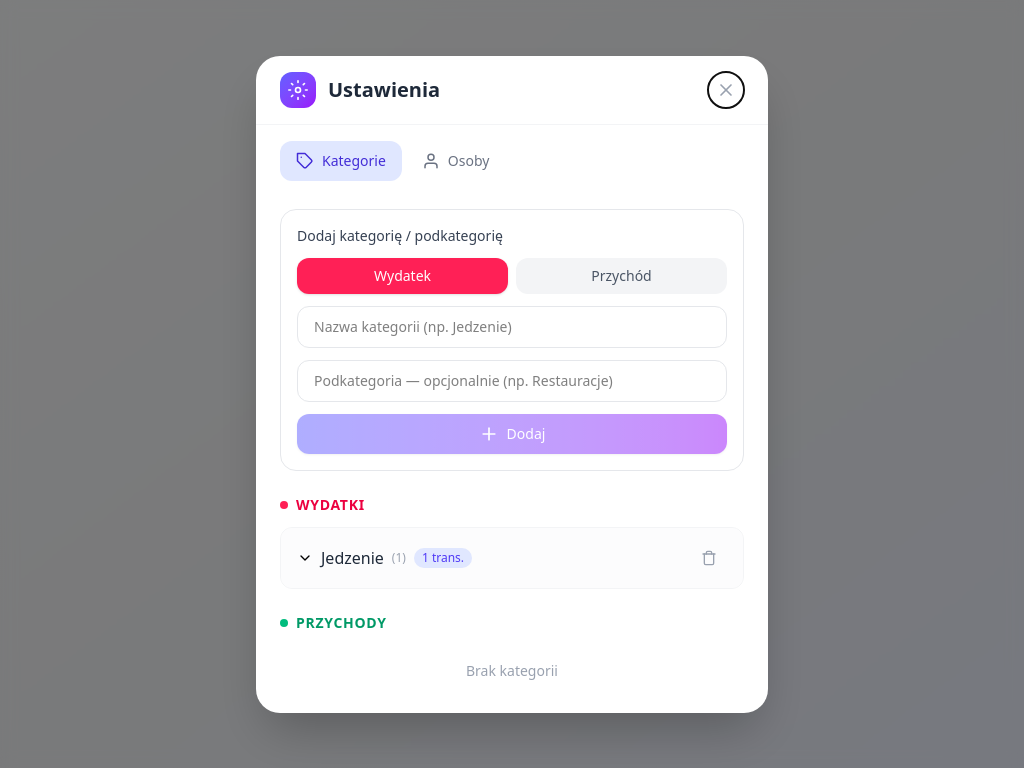
Scenario: SettingsPanel › dodaje kategorię i pokazuje komunikat
In the field with placeholder "Nazwa kategorii (np. Jedzenie)": (512, 326) [297, 306, 727, 348], type "Zdrowie"
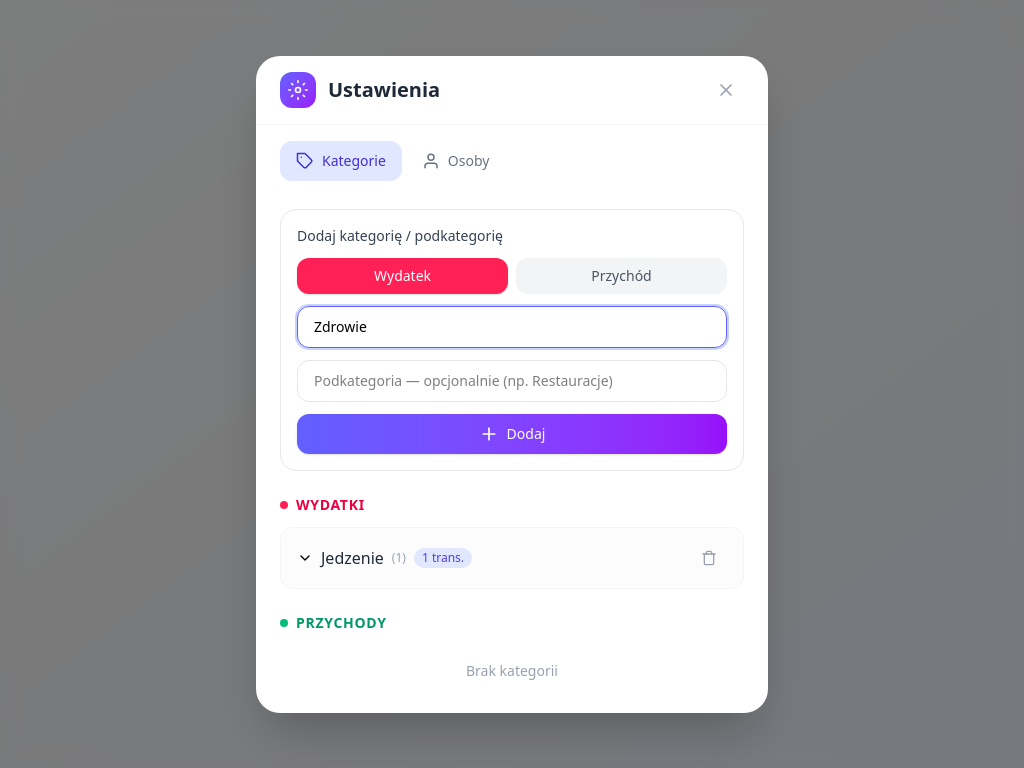
Click the button "Dodaj": (512, 434) [297, 414, 727, 454]
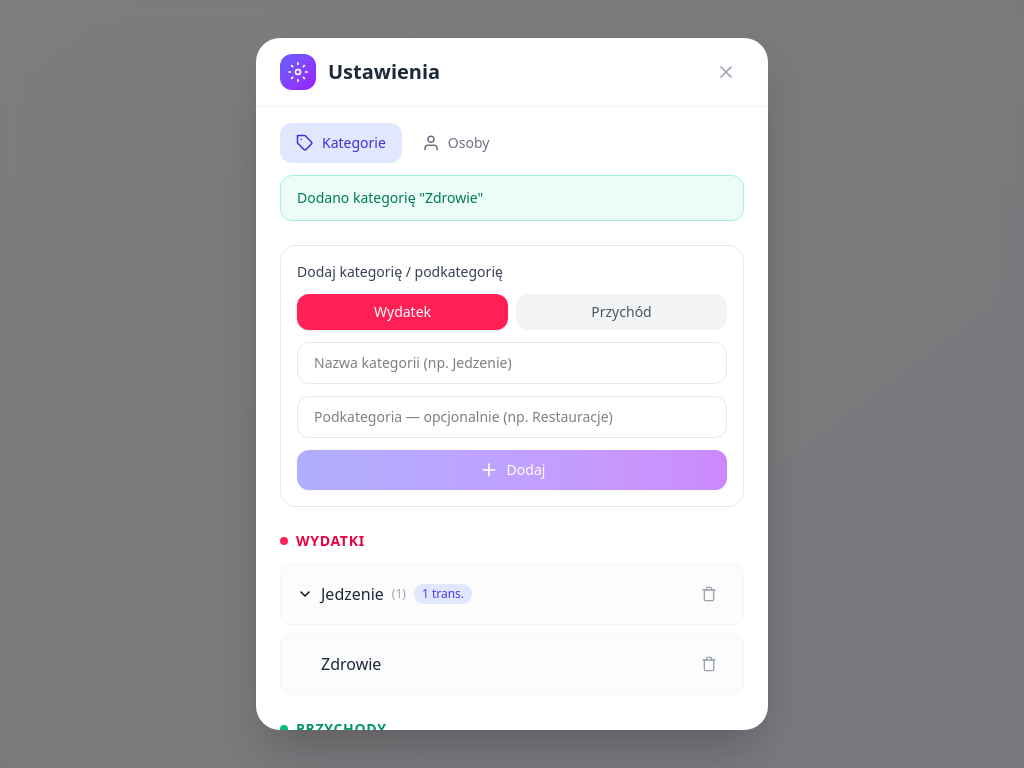
Expected: the text "Dodano kategorię \"Zdrowie\"" is shown, [280, 175, 744, 221]
